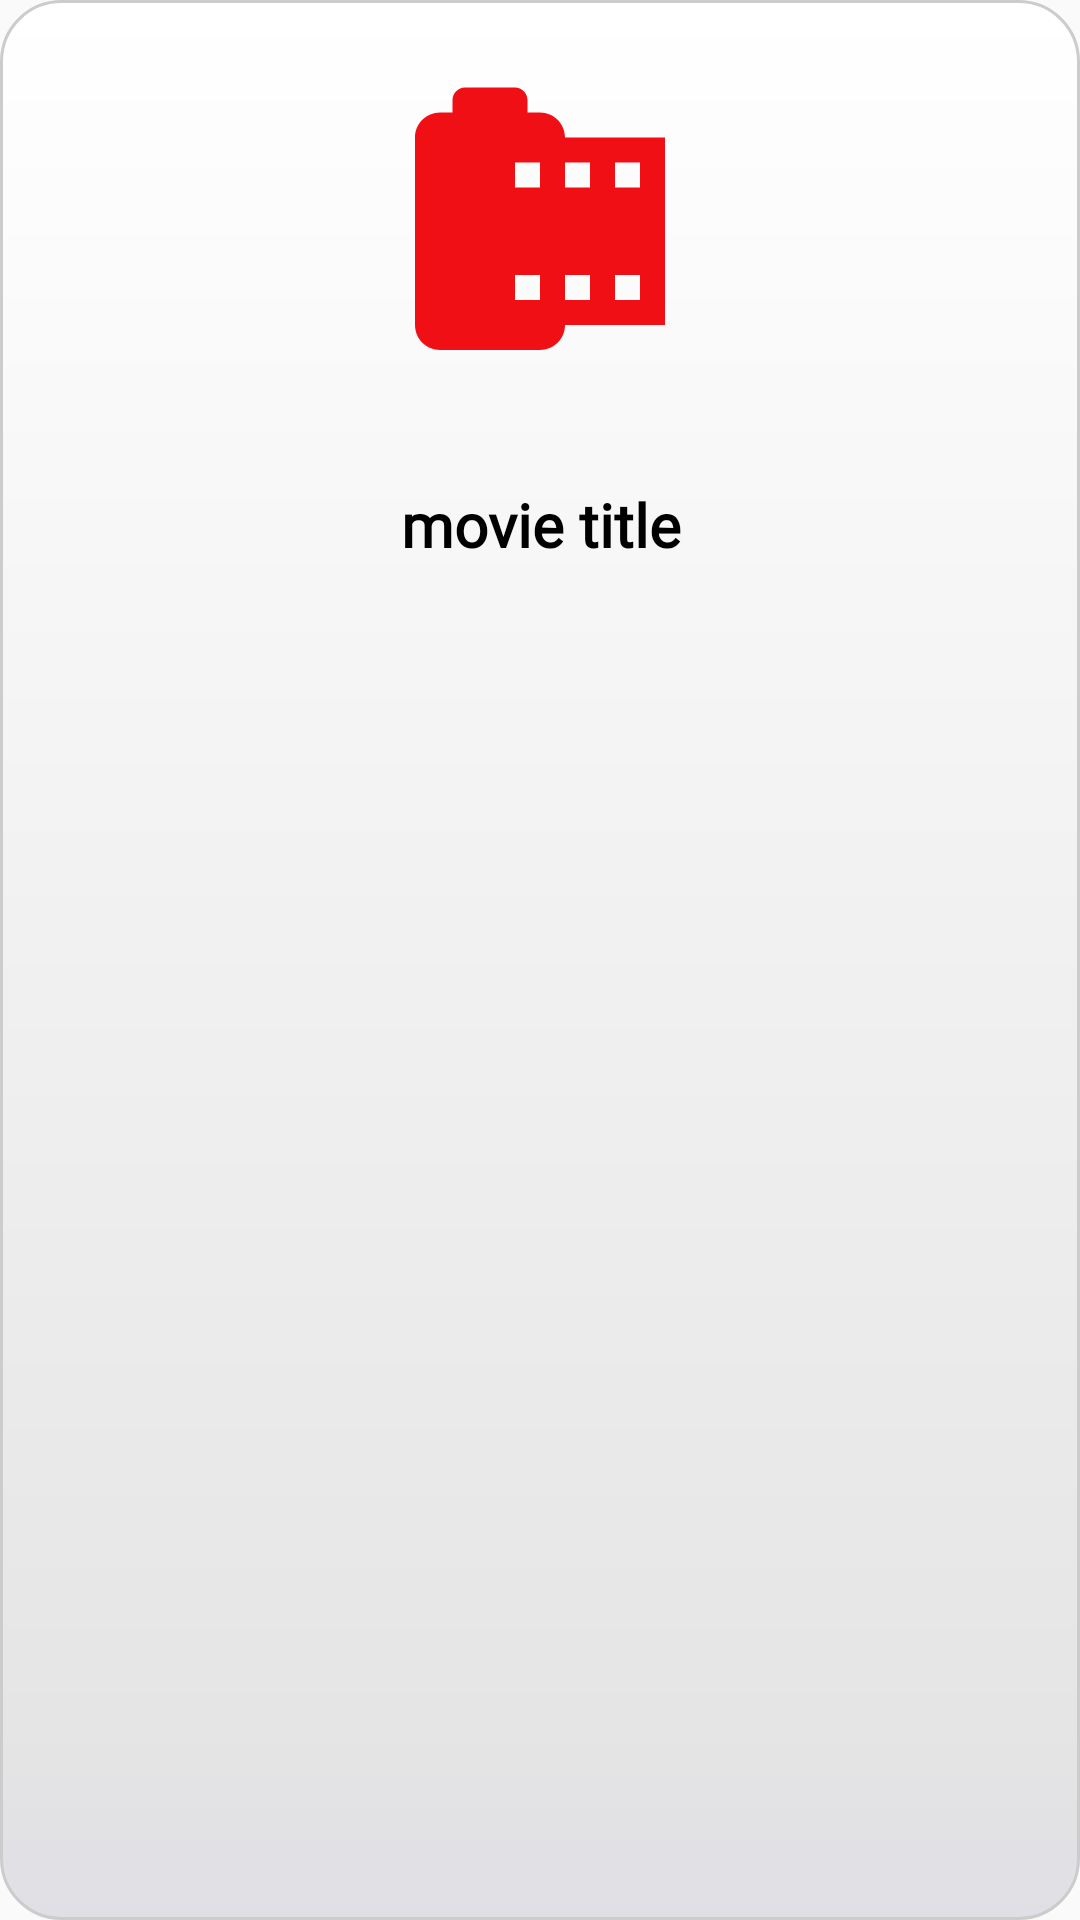

Named icons in this screenshot (1080x1920) and their bounding boxes, (x1, y1, x2, y2):
camera roll: (415, 87, 665, 350)
